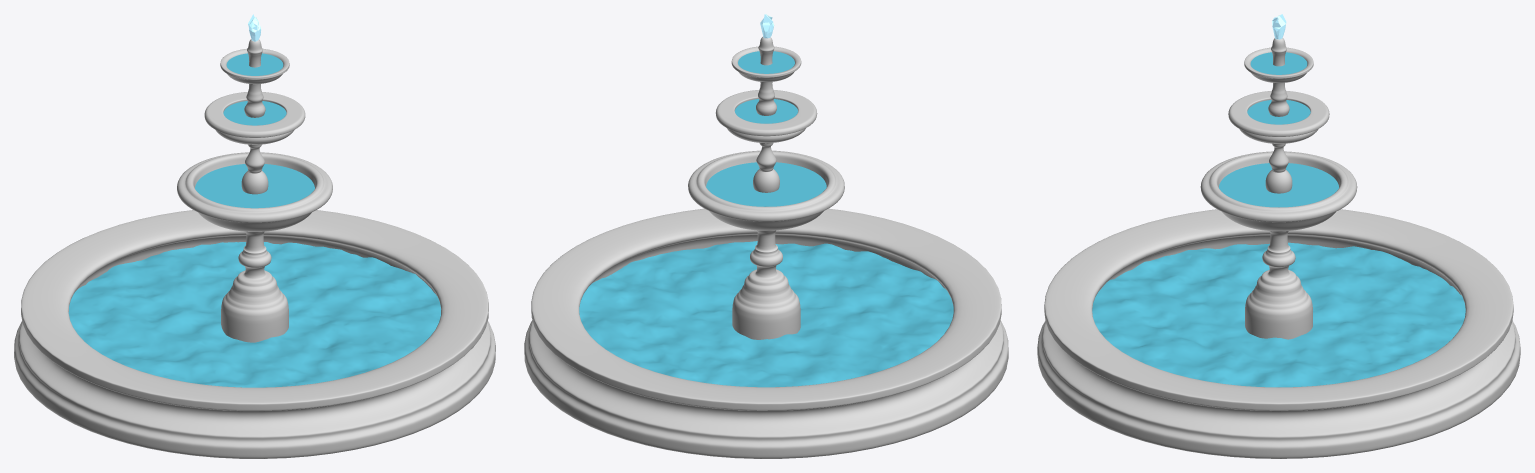
File: uploads_files_4162251_fountain.fbx
3 views of the same model, side by side, from view 1: azimuth 30°, elevation 25°; view 2: azimuth 150°, elevation 25°; view 3: azimuth 270°, elevation 25° (orthographic).
Visible parts, largest first — view 1: fountain_Плоскость.002, water_Окружность, water.001_Окружность.001, water.002_Окружность.002, water.002_Окружность.001; view 2: fountain_Плоскость.002, water_Окружность, water.001_Окружность.001, water.002_Окружность.002, water.002_Окружность.001; view 3: fountain_Плоскость.002, water_Окружность, water.001_Окружность.001, water.002_Окружность.002, water.002_Окружность.001.
Part boxes in pixels (left/top/right/bottom): fountain_Плоскость.002: left=14, top=39, right=495, bottom=458; water_Окружность: left=68, top=242, right=441, bottom=387; water.001_Окружность.001: left=195, top=164, right=314, bottom=208; water.002_Окружность.002: left=223, top=101, right=286, bottom=125; water.002_Окружность.001: left=226, top=53, right=283, bottom=75; fountain_Плоскость.002: left=524, top=36, right=1008, bottom=458; water_Окружность: left=579, top=241, right=953, bottom=387; water.001_Окружность.001: left=706, top=162, right=826, bottom=206; water.002_Окружность.002: left=734, top=99, right=798, bottom=123; water.002_Окружность.001: left=738, top=51, right=794, bottom=73; fountain_Плоскость.002: left=1037, top=38, right=1520, bottom=458; water_Окружность: left=1092, top=242, right=1465, bottom=387; water.001_Окружность.001: left=1219, top=163, right=1338, bottom=207; water.002_Окружность.002: left=1247, top=100, right=1310, bottom=124; water.002_Окружность.001: left=1250, top=52, right=1307, bottom=74.
Bounding box in the file's own units: 200 × 158 × 200.
